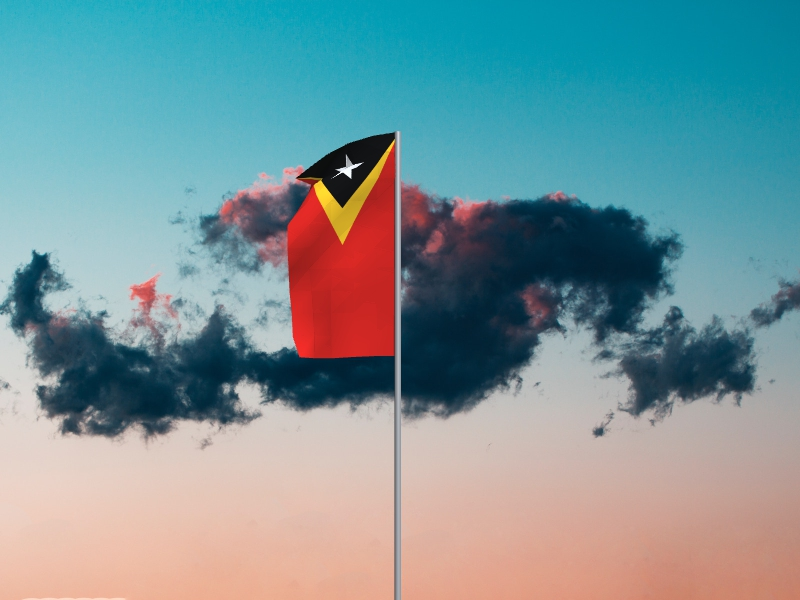tl: (286, 133, 395, 359)
